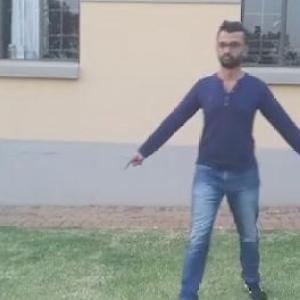land: (142, 23, 299, 296)
